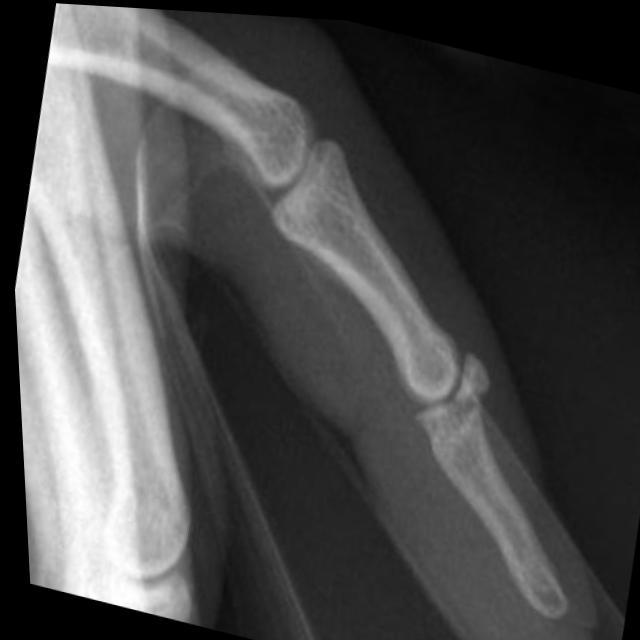fracture: (426, 317, 503, 425)
